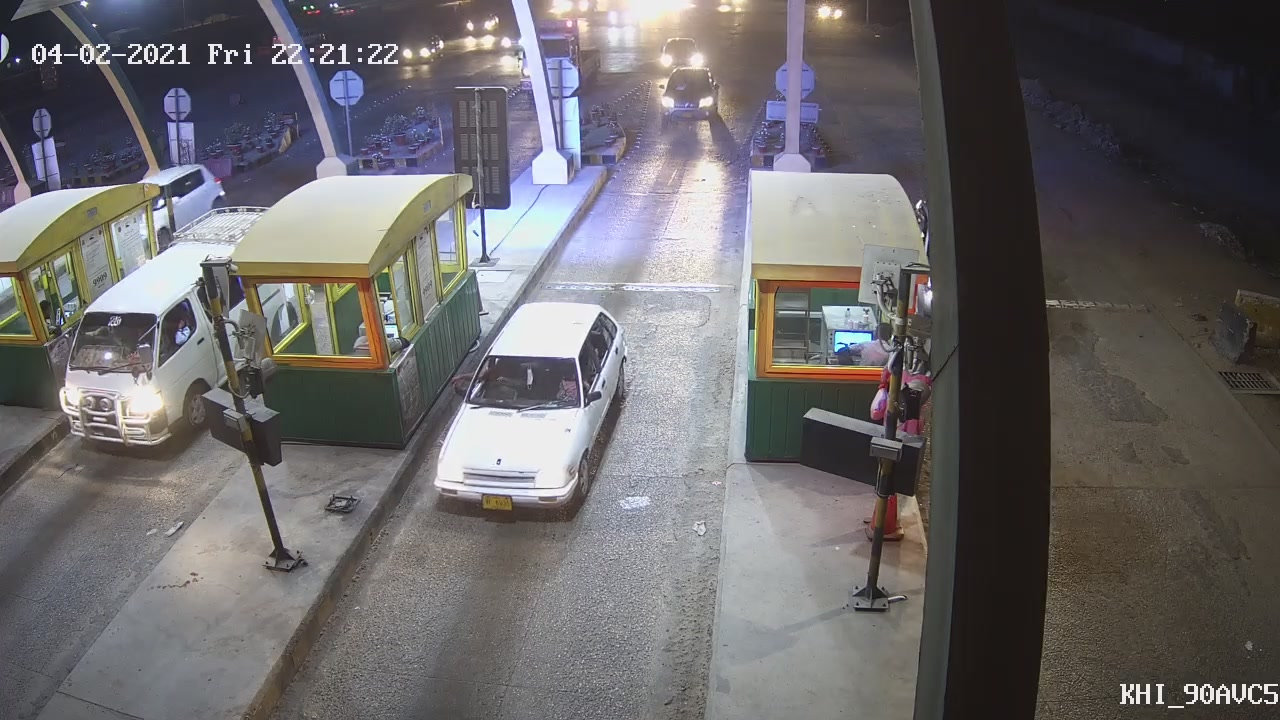F1: (431, 301, 633, 520)
